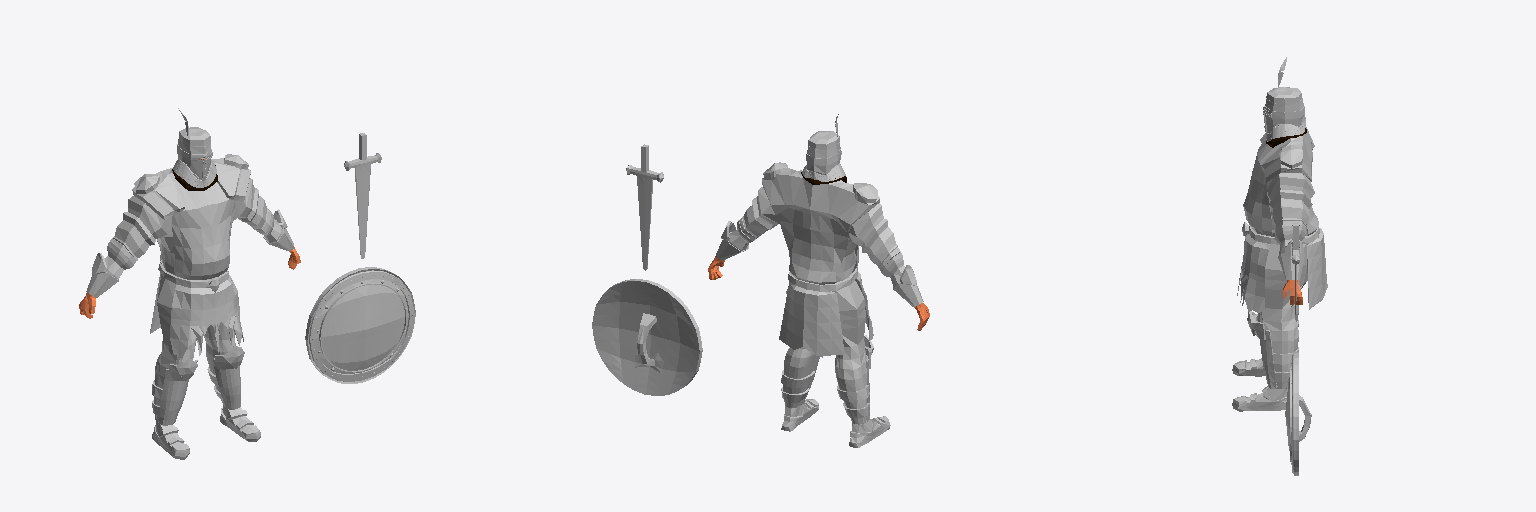
File: solaire_w_particles.obj
The picture shows the model from 3 angles: view 1: azimuth 30°, elevation 25°; view 2: azimuth 150°, elevation 25°; view 3: azimuth 270°, elevation 25°; orthographic projection.
Visible parts, largest first — view 1: Cube.004, Cube.003, Cylinder, Cube.002, Cube.001, Cube.007, Cube.009, Cube.005; view 2: Cylinder, Cube.004, Cube.003, Cube.002, Cube.001, Cube.009, Cube.007, Cube.005; view 3: Cube.004, Cube.003, Cube.001, Cube.002, Cube.007, Cylinder, Cube.005.
Part boxes in pixels (bbox=[...]): Cube.004: bbox=[105, 178, 282, 425]; Cube.003: bbox=[150, 182, 243, 358]; Cylinder: bbox=[305, 267, 415, 383]; Cube.002: bbox=[132, 154, 250, 219]; Cube.001: bbox=[173, 127, 216, 187]; Cube.007: bbox=[152, 405, 260, 459]; Cube.009: bbox=[344, 133, 381, 258]; Cube.005: bbox=[86, 209, 293, 297]; Cylinder: bbox=[592, 279, 702, 395]; Cube.004: bbox=[729, 187, 904, 424]; Cube.003: bbox=[777, 208, 873, 355]; Cube.002: bbox=[762, 162, 879, 232]; Cube.001: bbox=[802, 131, 845, 181]; Cube.009: bbox=[626, 144, 663, 270]; Cube.007: bbox=[781, 399, 890, 447]; Cube.005: bbox=[716, 221, 923, 307]; Cube.004: bbox=[1247, 131, 1314, 388]; Cube.003: bbox=[1237, 141, 1327, 312]; Cube.001: bbox=[1263, 87, 1305, 141]; Cube.002: bbox=[1260, 127, 1312, 182]; Cube.007: bbox=[1232, 358, 1287, 411]; Cylinder: bbox=[1285, 352, 1311, 475]; Cube.005: bbox=[1278, 239, 1304, 280].
Size of the model in its own units: 9.92 by 9.29 by 2.46.